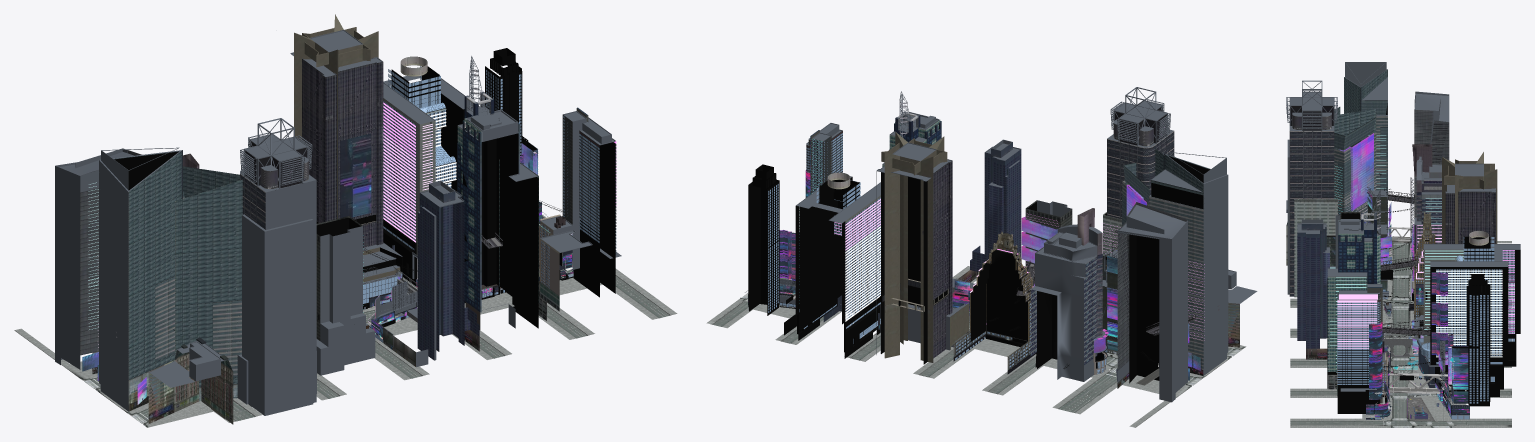
The model's file is 4marchcity-v1.glb.
3 views of the same model, side by side, from view 1: azimuth 30°, elevation 25°; view 2: azimuth 150°, elevation 25°; view 3: azimuth 270°, elevation 25° (orthographic). The views are drawn at different scales.
Visible parts, largest first — view 1: Object_180, Object_138, Object_26, Object_180.002, Object_41, Object_180.001, Object_113, Object_104, Object_32, Object_17, Object_38, Object_44 (+7 smaller); view 2: Object_26, Object_180, Object_41, Object_104, Object_32, Object_44, Object_113, Object_17, Object_38, Object_180.001, Object_44.002, Object_186 (+7 smaller); view 3: Object_180, Object_17, Object_32, Object_41, Object_44, Object_26, Object_180.002, Object_38, Object_180.001, Object_44.001, Object_104, Object_11.033 (+29 smaller).
Boxes of the visible parts, left/top/right/bottom form: Object_180: left=80, top=58, right=538, bottom=360; Object_138: left=237, top=56, right=518, bottom=415; Object_26: left=114, top=66, right=615, bottom=328; Object_180.002: left=175, top=166, right=251, bottom=406; Object_41: left=92, top=14, right=491, bottom=424; Object_180.001: left=114, top=150, right=182, bottom=404; Object_113: left=99, top=147, right=396, bottom=411; Object_104: left=55, top=30, right=382, bottom=369; Object_32: left=14, top=214, right=677, bottom=427; Object_17: left=363, top=66, right=616, bottom=342; Object_38: left=59, top=118, right=315, bottom=381; Object_44: left=355, top=48, right=536, bottom=309; Object_26: left=749, top=156, right=1209, bottom=383; Object_180: left=882, top=111, right=1187, bottom=370; Object_41: left=827, top=101, right=1239, bottom=388; Object_104: left=876, top=142, right=1187, bottom=402; Object_32: left=706, top=266, right=1245, bottom=427; Object_44: left=748, top=164, right=900, bottom=358; Object_113: left=880, top=152, right=1257, bottom=375; Object_17: left=768, top=133, right=1107, bottom=373; Object_38: left=1107, top=87, right=1236, bottom=289; Object_180.001: left=1149, top=154, right=1210, bottom=370; Object_44.002: left=834, top=222, right=880, bottom=321; Object_186: left=823, top=250, right=1200, bottom=380; Object_180: left=1289, top=92, right=1495, bottom=371; Object_17: left=1337, top=237, right=1514, bottom=419; Object_32: left=1290, top=241, right=1511, bottom=427; Object_41: left=1286, top=106, right=1514, bottom=343; Object_44: left=1418, top=250, right=1520, bottom=404; Object_26: left=1326, top=103, right=1502, bottom=413; Object_180.002: left=1334, top=107, right=1376, bottom=223; Object_38: left=1286, top=77, right=1448, bottom=267; Object_180.001: left=1344, top=69, right=1387, bottom=232; Object_44.001: left=1436, top=270, right=1502, bottom=357; Object_104: left=1387, top=91, right=1495, bottom=287; Object_11.033: left=1339, top=133, right=1373, bottom=210.
Bounding box in the file's own units: 29.8 × 20.82 × 15.74.
32 materials, 17 textured.
